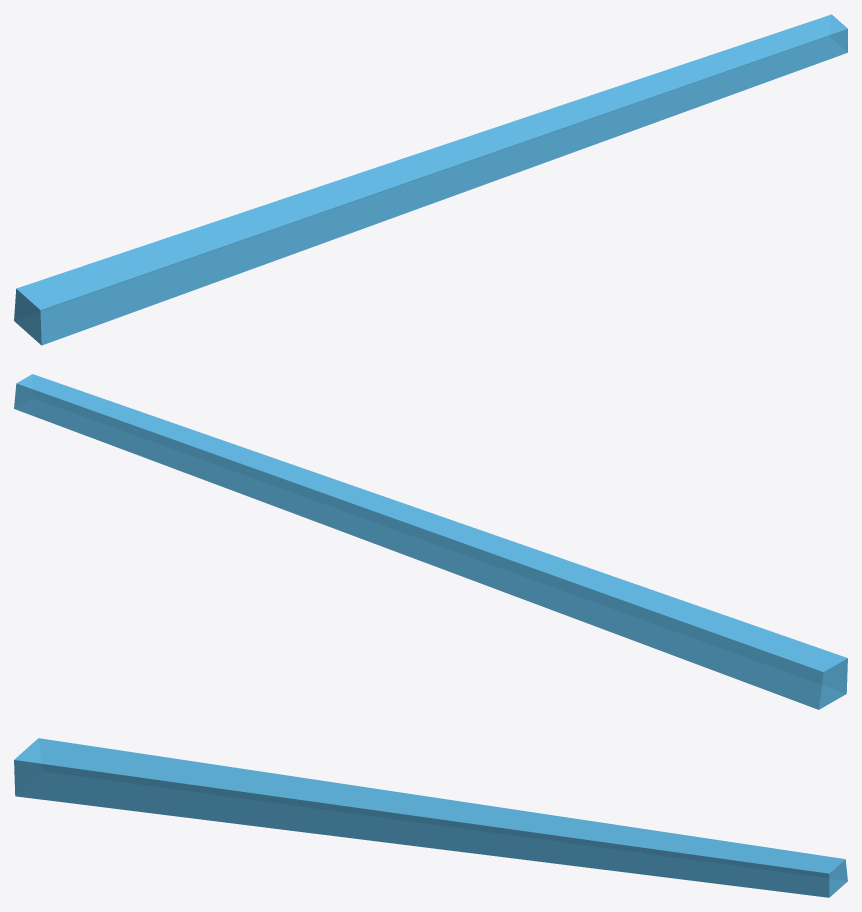
Rendered from Event_421364160_HErechit_13.fbx.
3 renders of one model, top to bottom at view 1: azimuth 30°, elevation 25°; view 2: azimuth 150°, elevation 25°; view 3: azimuth 330°, elevation 25°, orthographic.
Visible parts, largest first — view 1: Model; view 2: Model; view 3: Model.
Part boxes in pixels (x1,y1,x2,y2): Model: (14, 14, 847, 345); Model: (14, 374, 847, 709); Model: (14, 738, 847, 897).
Bounding box in the file's own units: 5.09 × 0.7385 × 0.3019.
